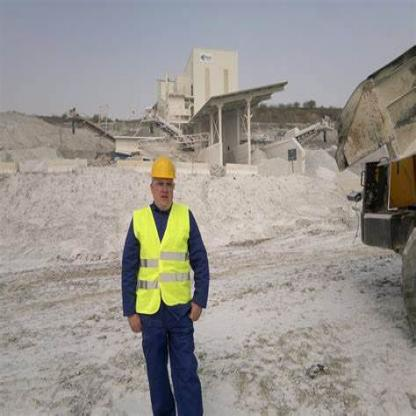person: (118, 134, 231, 414)
